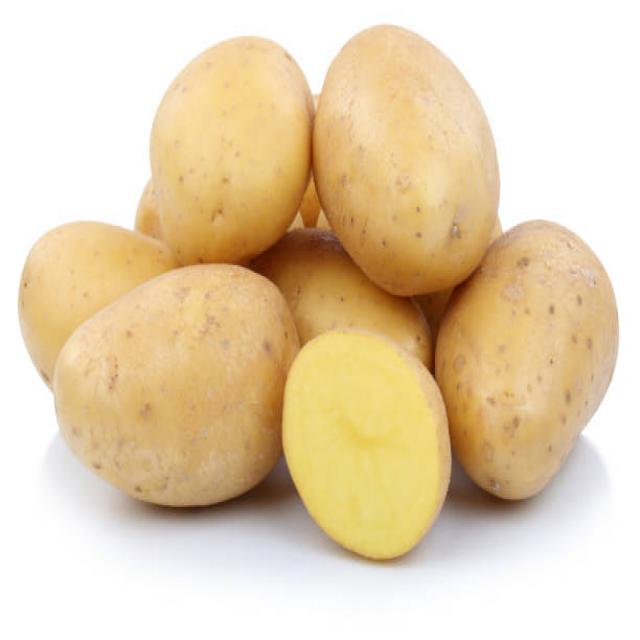potato: (56, 260, 278, 514), (447, 210, 625, 503), (317, 13, 498, 276), (284, 321, 448, 561), (146, 29, 314, 261)
